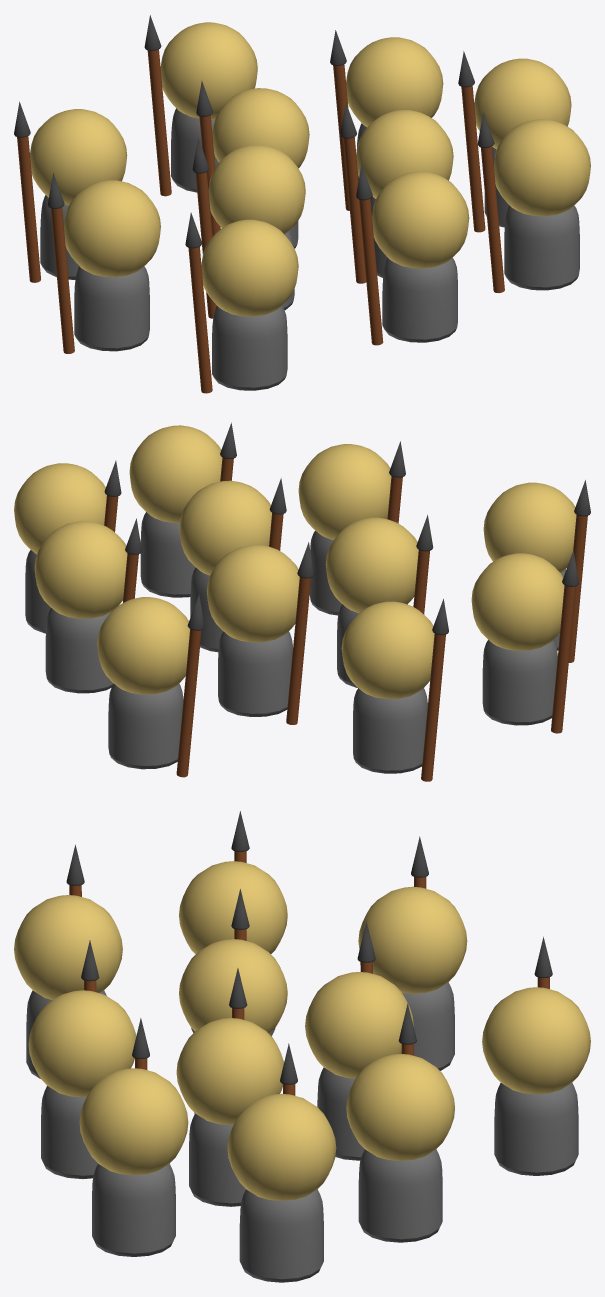
Rendered from kucukordu.fbx.
3 renders of one model, top to bottom at view 1: azimuth 30°, elevation 25°; view 2: azimuth 150°, elevation 25°; view 3: azimuth 270°, elevation 25°, orthographic. The views are drawn at different scales.
Parts seen in each view (by area): view 1: Circle.010; view 2: Circle.010; view 3: Circle.010.
Part boxes in pixels (x1,y1,x2,y2): Circle.010: (14,15,590,393); Circle.010: (14,422,590,781); Circle.010: (14,811,590,1282).
Bounding box in the file's own units: 1644 × 540 × 1392.
